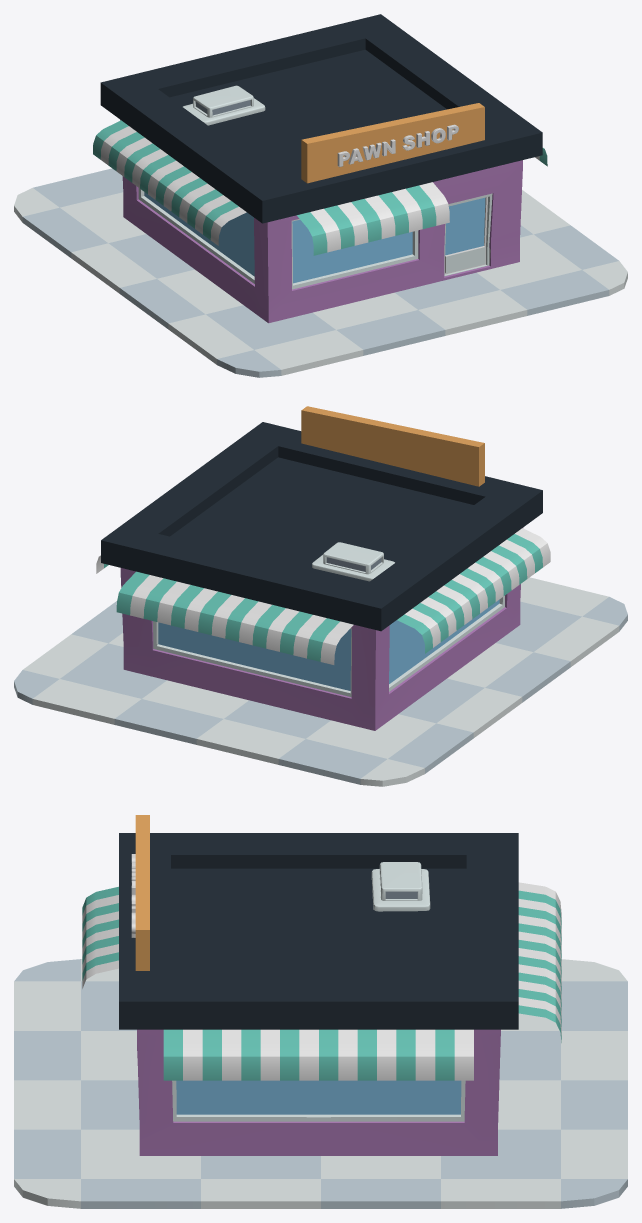
File: pawn shop.fbx
3 renders of one model, top to bottom at view 1: azimuth 30°, elevation 25°; view 2: azimuth 150°, elevation 25°; view 3: azimuth 270°, elevation 25°, orthographic. The views are drawn at different scales.
Visible parts, largest first — view 1: pawn_building, floor, door; view 2: pawn_building, floor; view 3: pawn_building, floor.
Boxes of the visible parts, box(x1,y1,x2,y2) form: pawn_building: box(93, 14, 547, 323); floor: box(14, 168, 627, 377); door: box(444, 197, 487, 274); pawn_building: box(96, 406, 550, 730); floor: box(14, 577, 627, 786); pawn_building: box(82, 815, 561, 1155); floor: box(14, 959, 627, 1208).
Bounding box in the file's own units: 2691 × 1135 × 2882.
